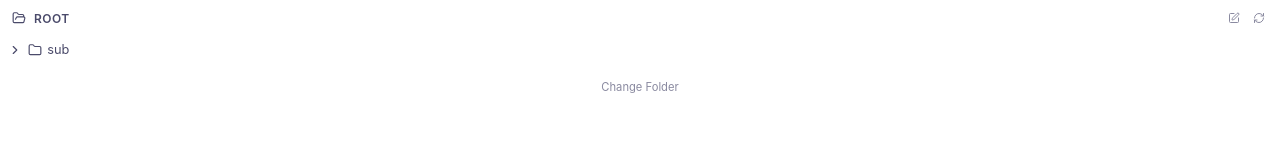
Test: FileExplorer › expands a directory and shows its children
Click the text "sub".
click(58, 50)  # box x1=47 y1=42 x2=69 y2=57
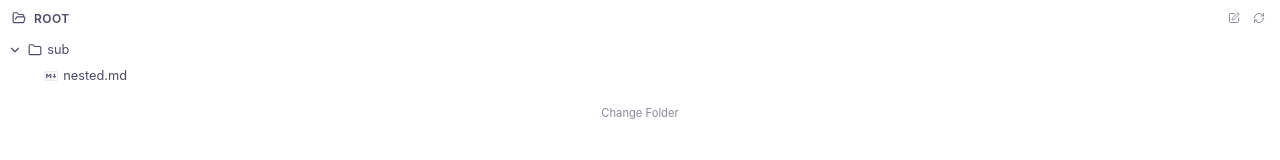
expect the text "nested.md" is shown: met, box x1=63 y1=68 x2=127 y2=83
